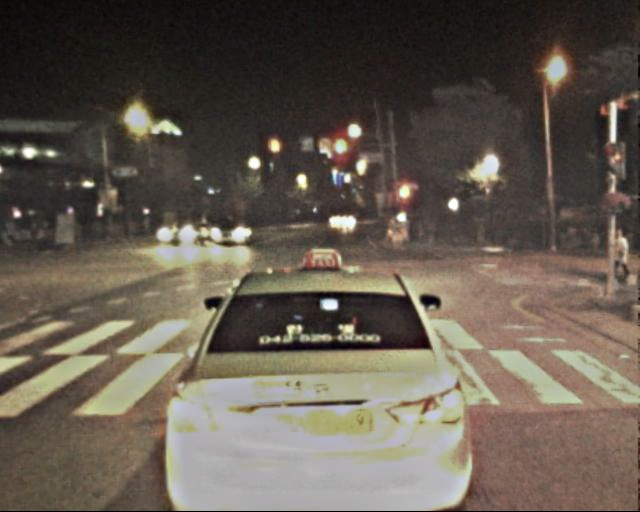person: (609, 228, 634, 290), (405, 217, 441, 247), (4, 208, 29, 245), (42, 215, 58, 254)
